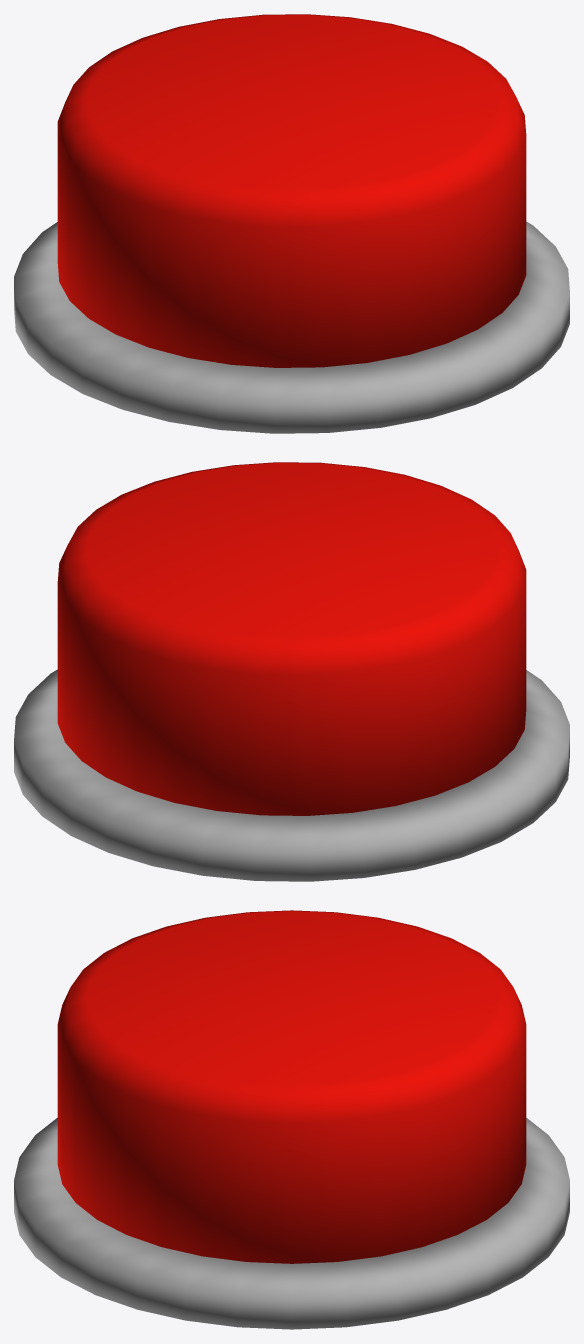
The model's file is Button.fbx.
3 views of the same model, one above another, from view 1: azimuth 30°, elevation 25°; view 2: azimuth 150°, elevation 25°; view 3: azimuth 270°, elevation 25° (orthographic).
Visible parts, largest first — view 1: Cylinder.001, Cylinder; view 2: Cylinder.001, Cylinder; view 3: Cylinder.001, Cylinder.
Boxes of the visible parts, <box> form: Cylinder.001: <box>57,14,526,367</box>; Cylinder: <box>14,221,569,433</box>; Cylinder.001: <box>57,462,526,815</box>; Cylinder: <box>14,669,569,881</box>; Cylinder.001: <box>57,910,526,1263</box>; Cylinder: <box>14,1118,569,1329</box>.
Size of the model in its own units: 220 by 93.33 by 220.
